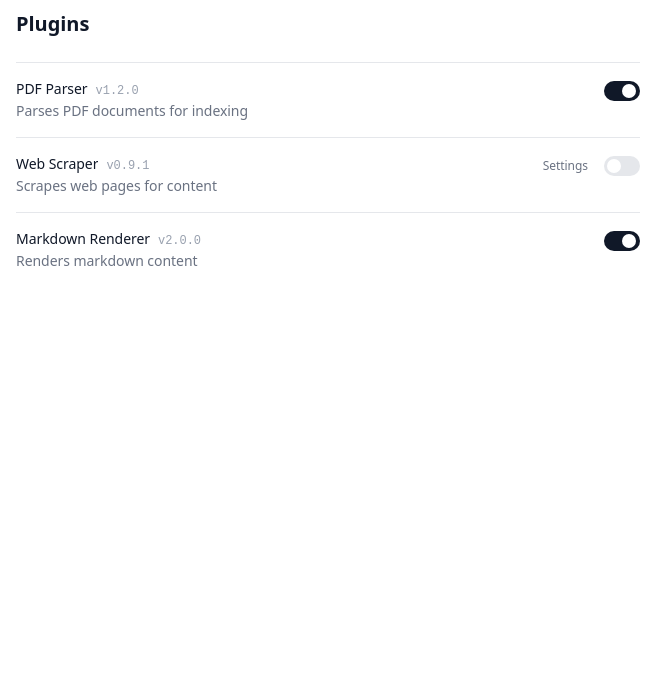
Test: PluginsPage › expands config form when Settings is clicked
The image size is (657, 681).
Expected: the heading "Web Scraper" is shown, [16, 154, 98, 174]
What coordinates should you click on to do the following:
click the button with aria-label "settings for web scraper"
I would click on:
 (565, 166)
Its box is [543, 158, 588, 174].
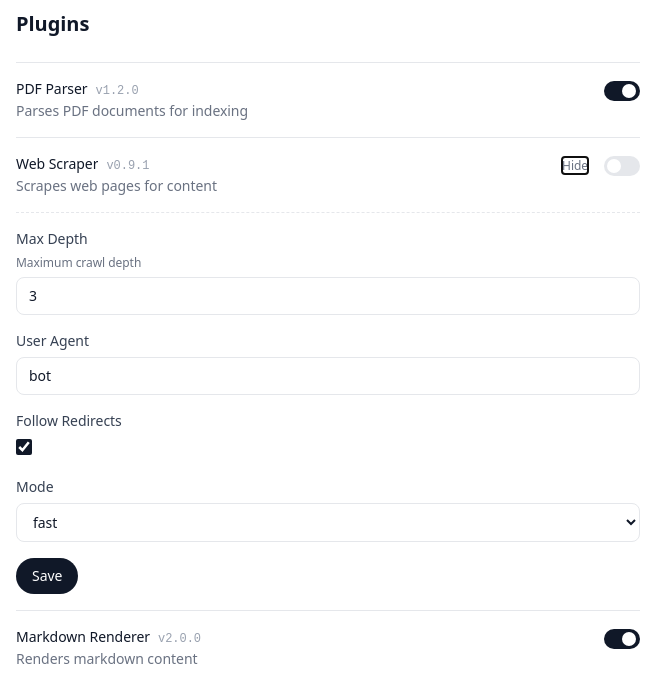
Expected: the number field labelled "Max Depth" is shown, [16, 277, 640, 315]
Expected: the field labelled "User Agent" is shown, [16, 357, 640, 395]
Expected: the checkbox labelled "Follow Redirects" is shown, [16, 439, 32, 455]
